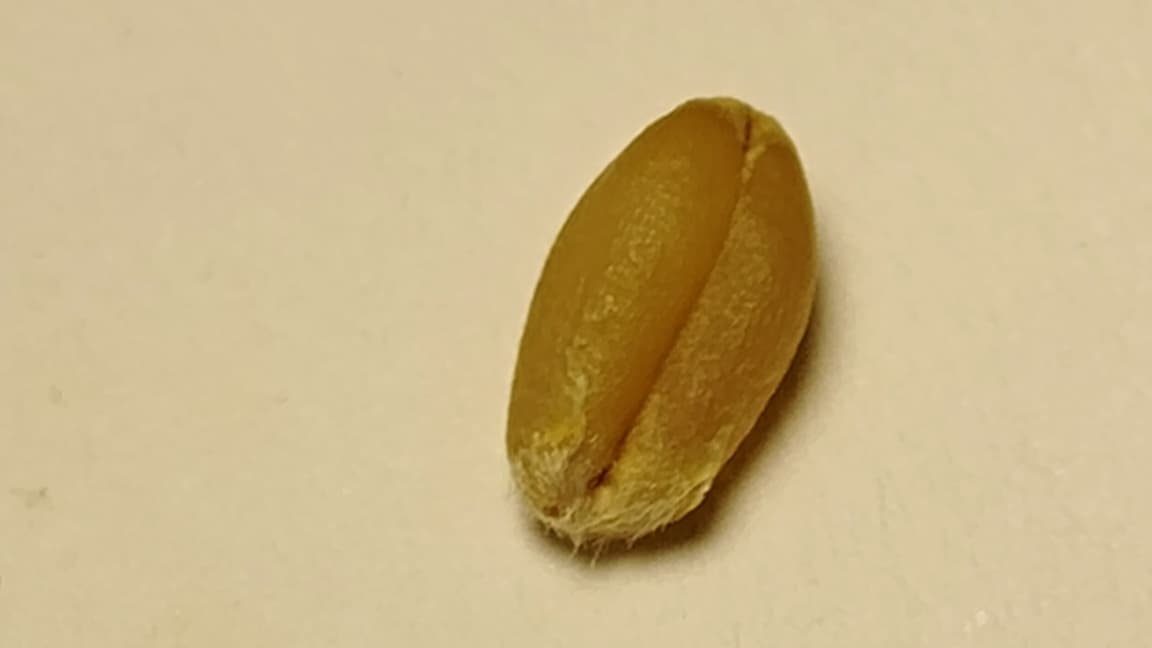healthy: (507, 98, 814, 541)
